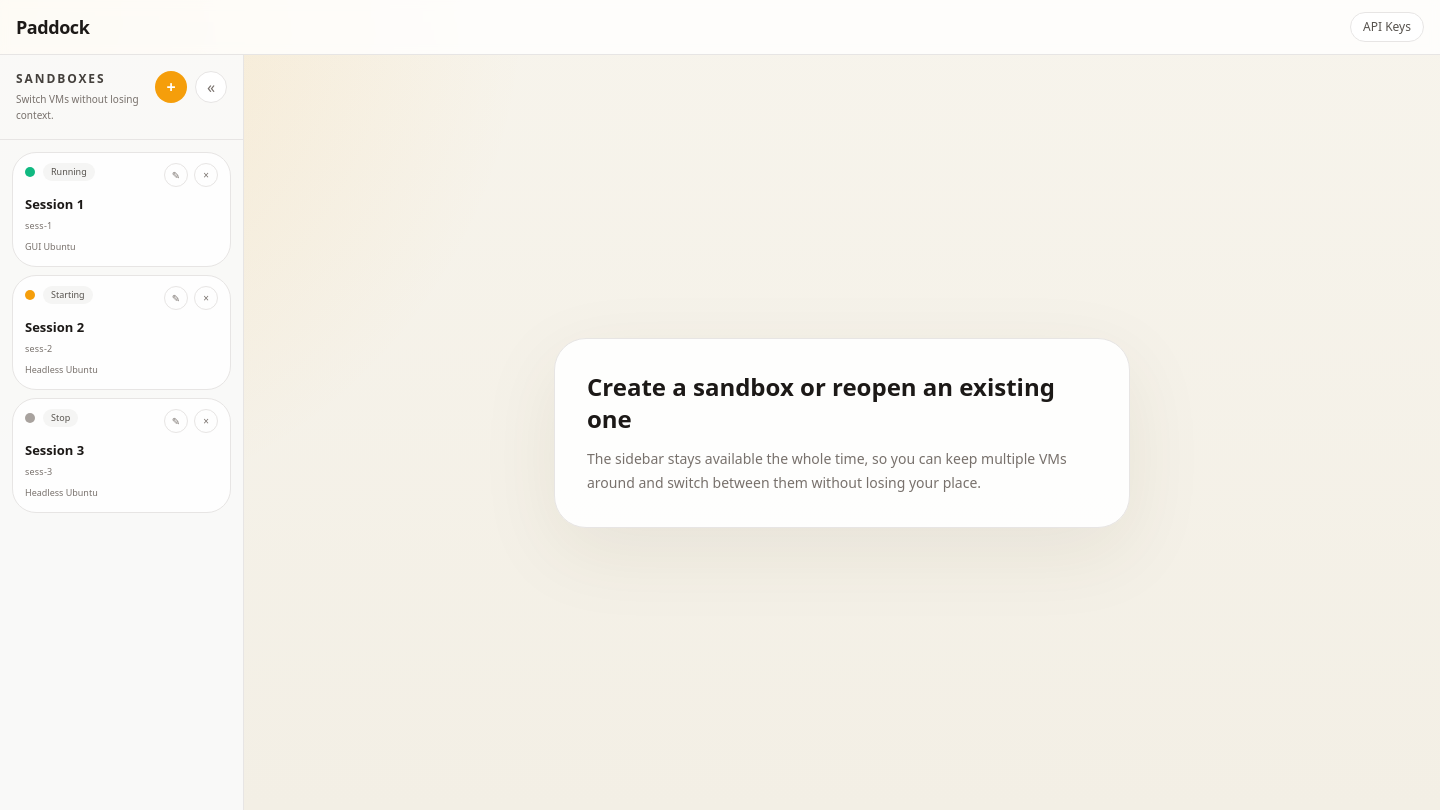
Test case: App browser journey › clears the creating lock if start fails so new sandboxes can still be created
Click the button "Session 3 sess-3 Headless Ubuntu": click(61, 466) [25,433,98,500]
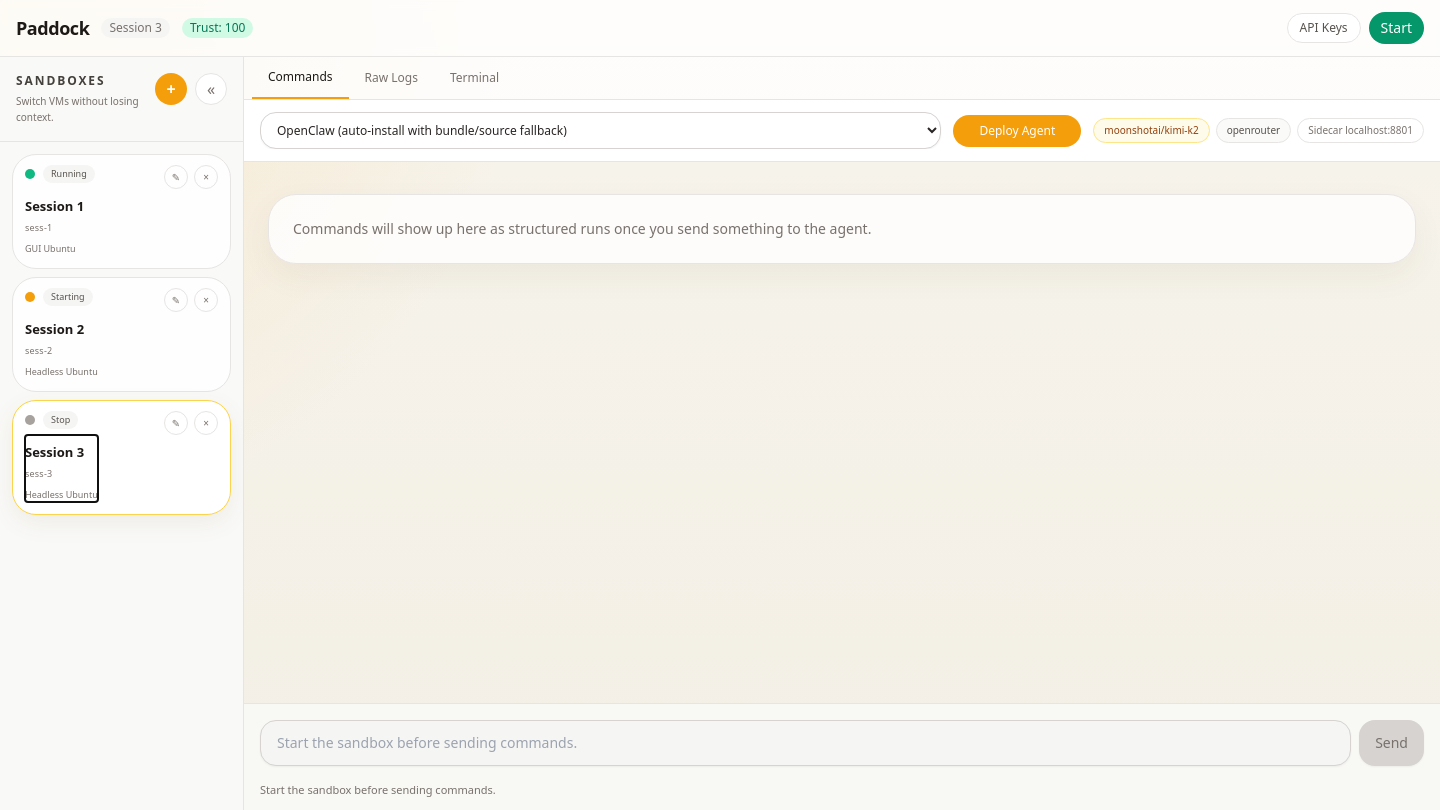
Click the button "Start": click(1396, 28) [1369,12,1424,44]
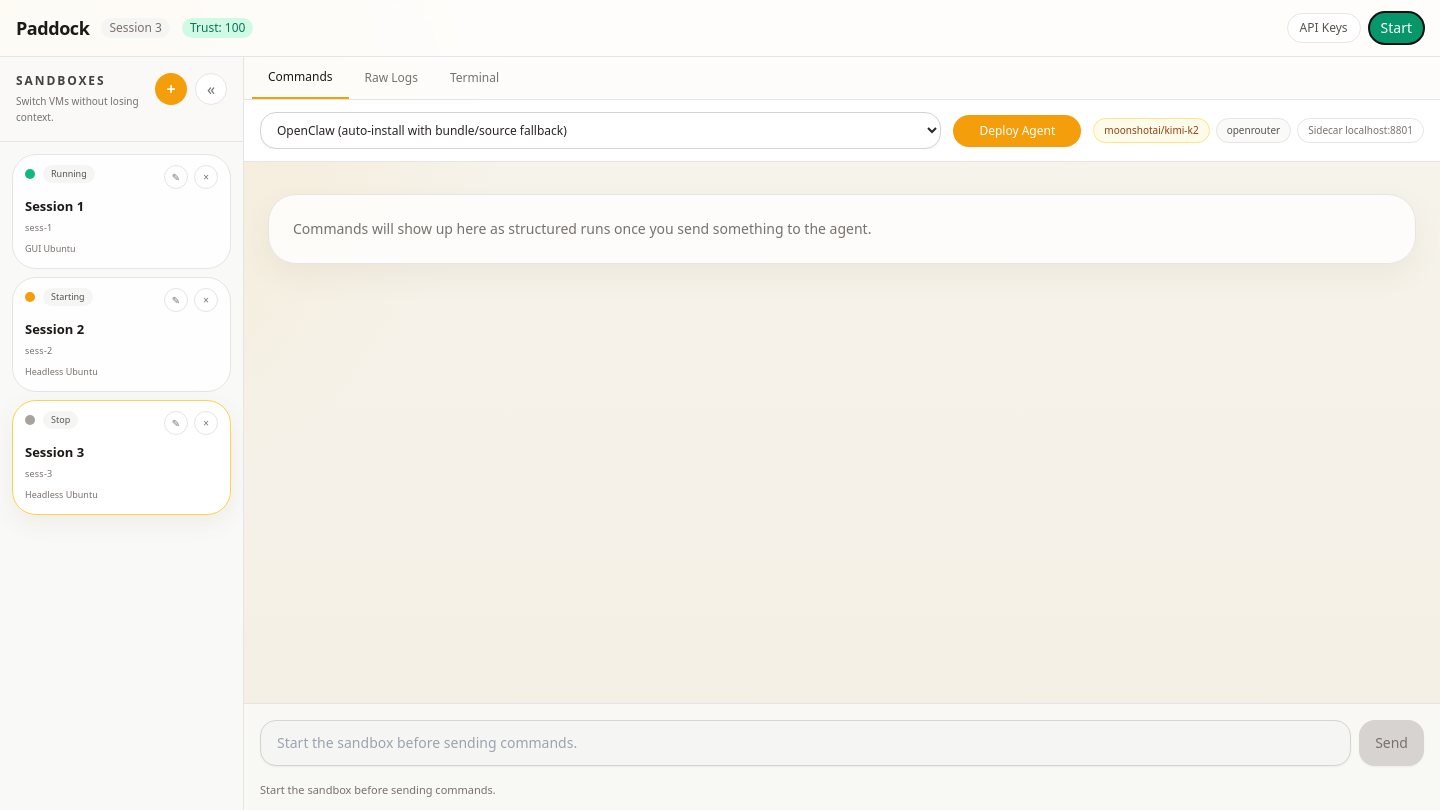
Click the button named "Create sandbox": click(171, 89) [155,73,187,105]
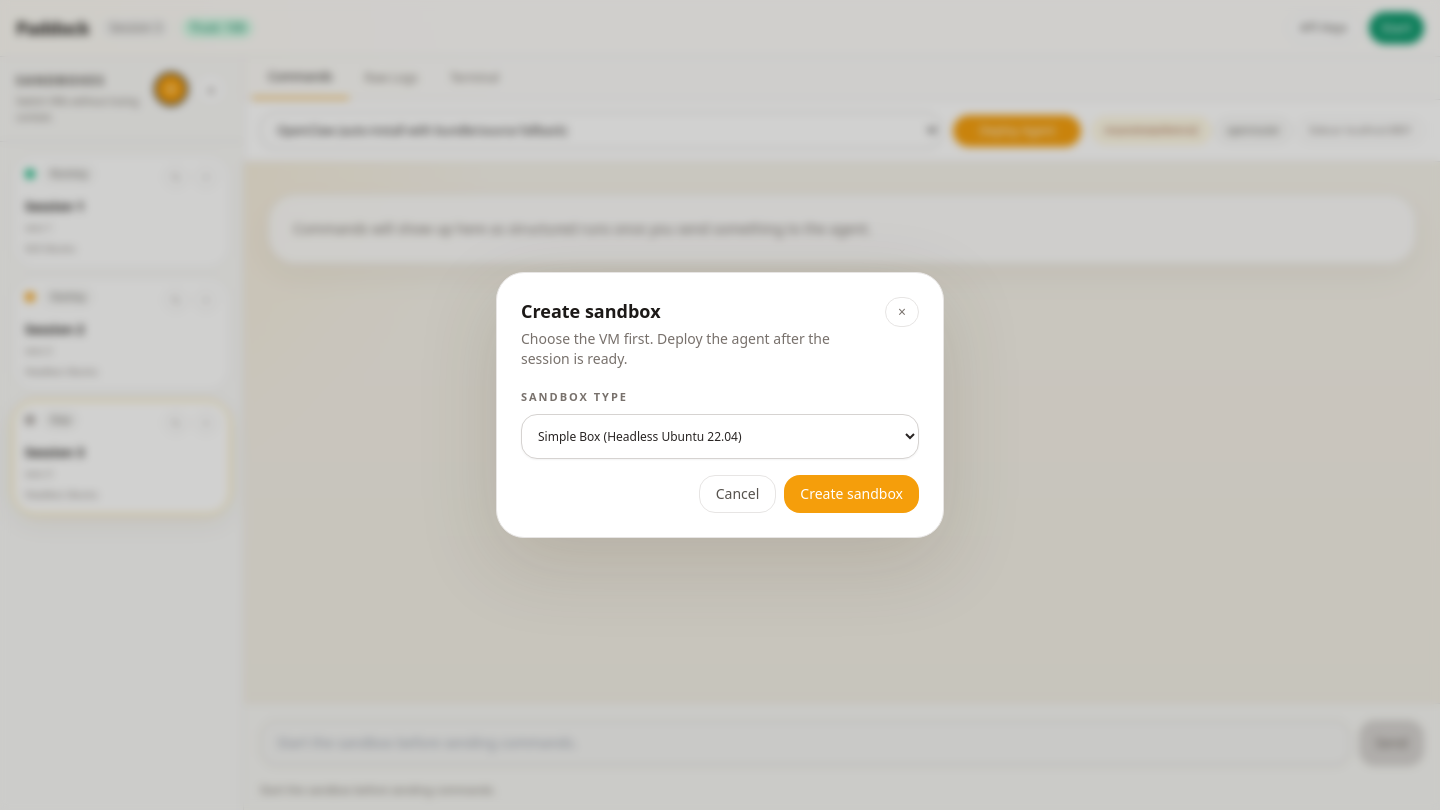
Expected: the button "Create sandbox" is enabled, [784,475,919,513]
